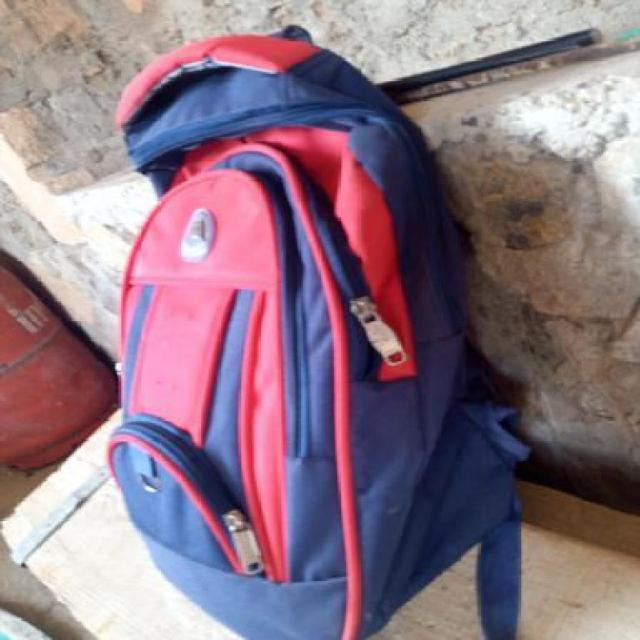backpack: (103, 23, 539, 640)
